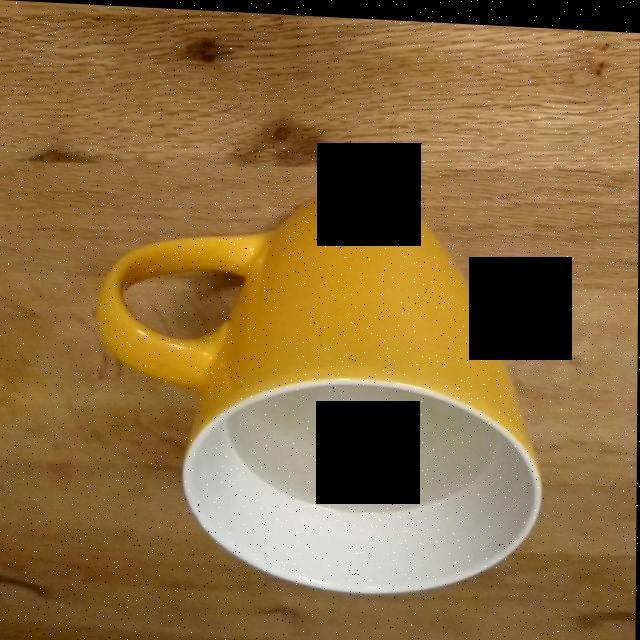drink: (236, 383, 502, 507)
